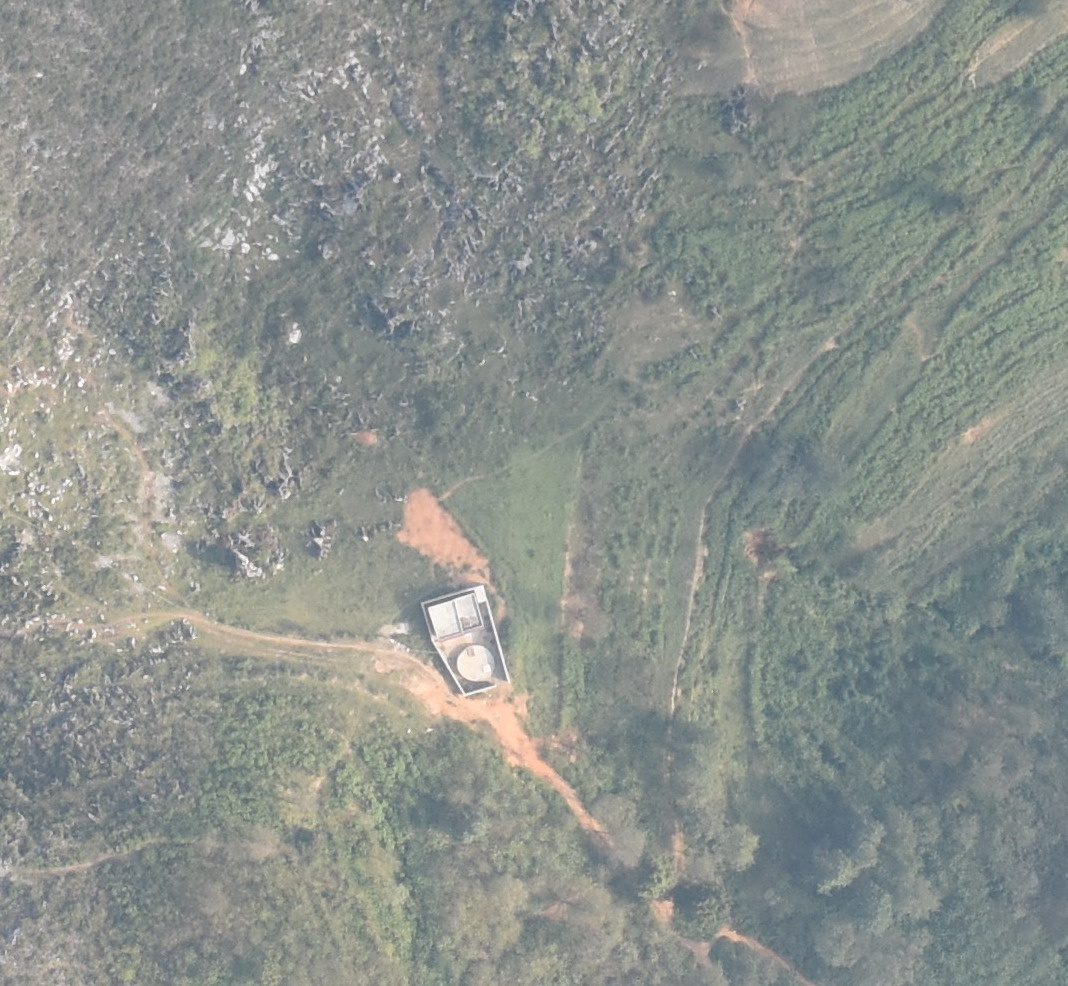building: (423, 584, 515, 699)
well: (456, 643, 496, 684)
